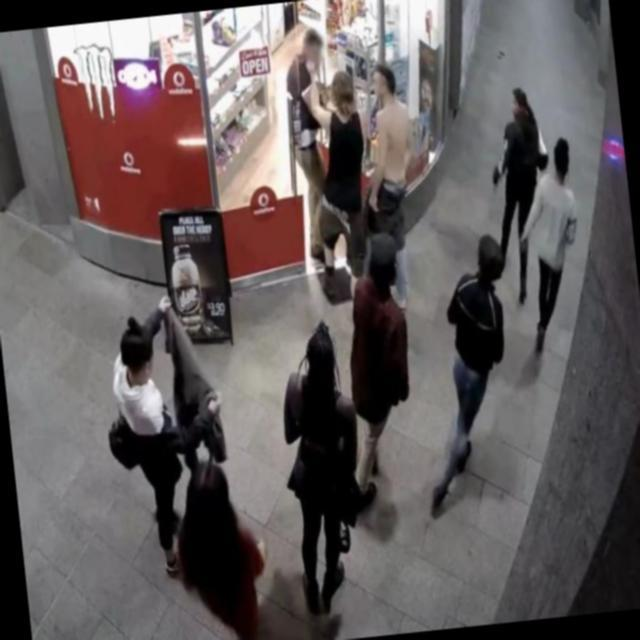person: (403, 232, 534, 520), (269, 318, 386, 616), (102, 305, 196, 584), (340, 228, 426, 480), (508, 133, 600, 359), (170, 451, 278, 640), (304, 69, 384, 299), (483, 81, 563, 307), (354, 64, 422, 232)
